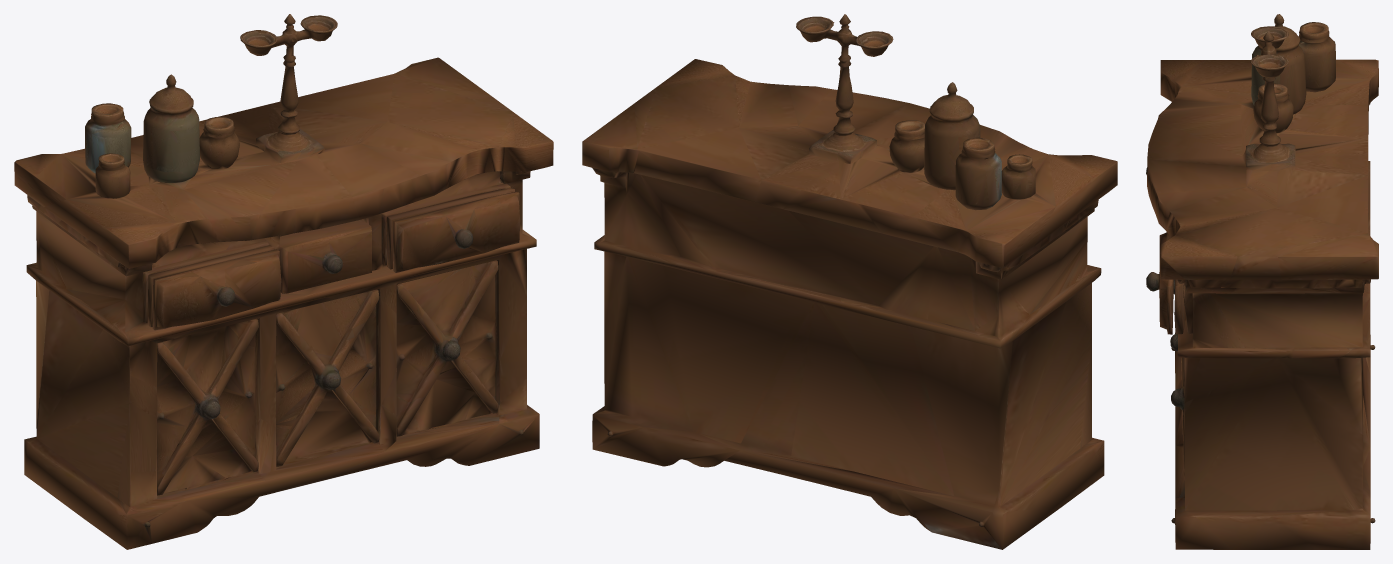
Rendered from shop_counter.glb.
3 renders of one model, left to right at view 1: azimuth 30°, elevation 25°; view 2: azimuth 150°, elevation 25°; view 3: azimuth 270°, elevation 25°, orthographic. The views are drawn at different scales.
Parts seen in each view (by area): view 1: shop_counter; view 2: shop_counter; view 3: shop_counter.
Part boxes in pixels (box(x1,y1,x2,y2)): shop_counter: box(14, 14, 553, 549); shop_counter: box(582, 14, 1117, 549); shop_counter: box(1146, 14, 1378, 549).
Bounding box in the file's own units: 1.14 × 1.15 × 0.5695.
Materials: 1 (1 with a texture image).
